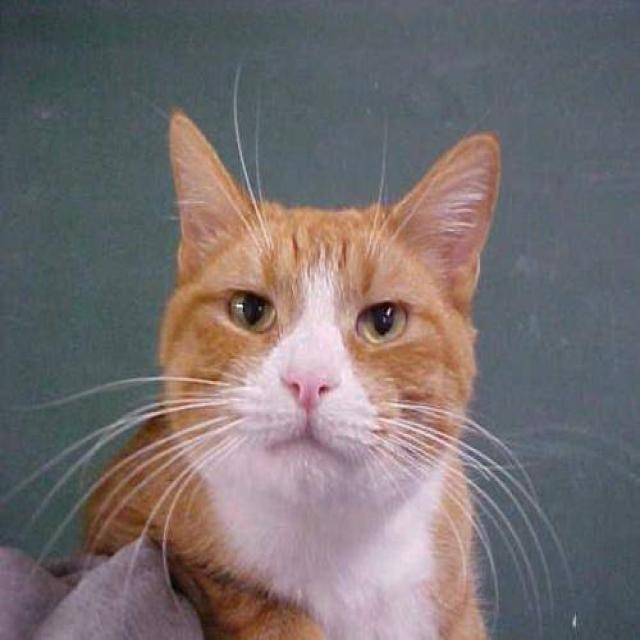cat: (0, 62, 576, 638)
